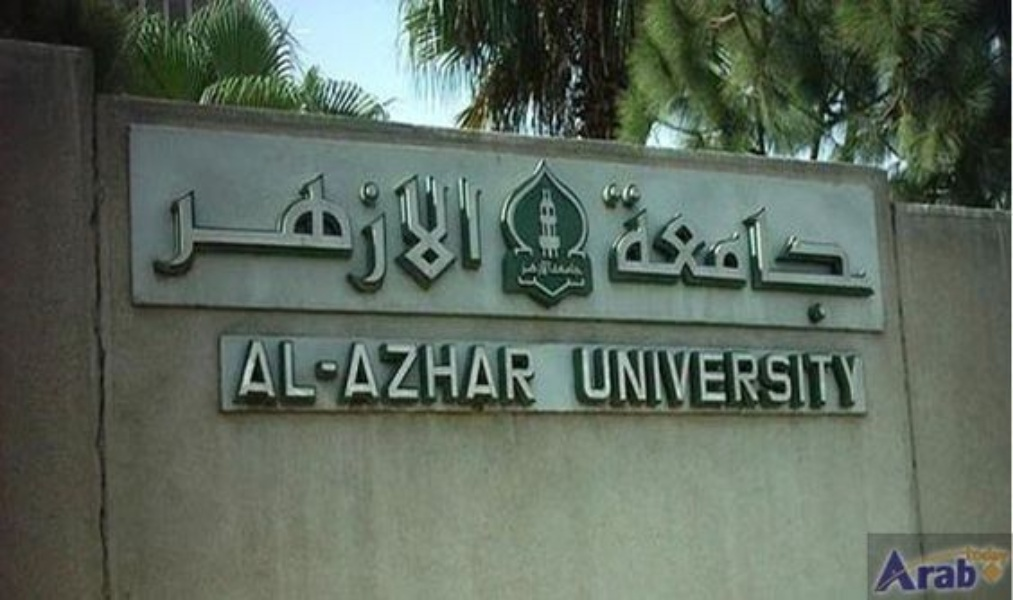text: (609, 180, 624, 327), (625, 180, 640, 327), (641, 180, 656, 327), (657, 180, 672, 327), (673, 180, 688, 327), (689, 180, 704, 327), (705, 180, 720, 327), (721, 180, 736, 327), (737, 180, 752, 327), (753, 180, 768, 327), (769, 180, 784, 327), (785, 180, 800, 327), (801, 180, 816, 327), (817, 180, 832, 327), (833, 180, 848, 327), (849, 180, 864, 327), (865, 180, 880, 327), (161, 173, 176, 299), (177, 173, 192, 299), (193, 173, 208, 299), (209, 173, 224, 299), (225, 173, 240, 299), (241, 173, 256, 299), (257, 173, 272, 299), (273, 173, 288, 299), (289, 173, 304, 299), (305, 173, 320, 299), (321, 173, 336, 299), (337, 173, 352, 299), (353, 173, 368, 299), (369, 173, 384, 299), (385, 173, 400, 299), (401, 173, 416, 299), (417, 173, 432, 299), (433, 173, 448, 299), (449, 173, 464, 299), (465, 173, 480, 299), (257, 335, 272, 406), (273, 335, 288, 406), (289, 335, 304, 406), (305, 335, 320, 406), (321, 335, 336, 406), (337, 335, 352, 406), (353, 335, 368, 406), (369, 335, 384, 406), (385, 335, 400, 406), (401, 335, 416, 406), (417, 335, 432, 406), (433, 335, 448, 406), (449, 335, 464, 406), (465, 335, 480, 406), (481, 335, 496, 406), (497, 335, 512, 406), (513, 335, 528, 406), (577, 344, 592, 412), (593, 344, 608, 412), (609, 344, 624, 412), (625, 344, 640, 412), (641, 344, 656, 412), (657, 344, 672, 412), (673, 344, 688, 412), (689, 344, 704, 412), (705, 344, 720, 412), (721, 344, 736, 412), (737, 344, 752, 412), (753, 344, 768, 412), (769, 344, 784, 412), (785, 344, 800, 412), (801, 344, 816, 412), (817, 344, 832, 412), (833, 344, 848, 412), (849, 344, 864, 412), (602, 180, 608, 327), (245, 335, 256, 406), (881, 548, 896, 593), (897, 548, 912, 593), (913, 548, 928, 593), (929, 548, 944, 593), (945, 548, 960, 593), (961, 548, 976, 593), (155, 173, 160, 299), (568, 344, 576, 412), (481, 173, 485, 299), (529, 335, 536, 406), (529, 257, 544, 279), (545, 257, 560, 279), (561, 257, 576, 279), (518, 257, 528, 279), (865, 344, 868, 412), (577, 257, 586, 279), (881, 180, 882, 327), (977, 548, 979, 593), (879, 548, 880, 593)
